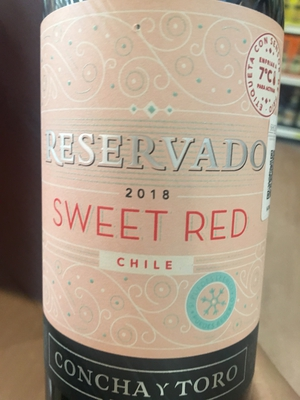reservado sweet red: (31, 6, 287, 400)
